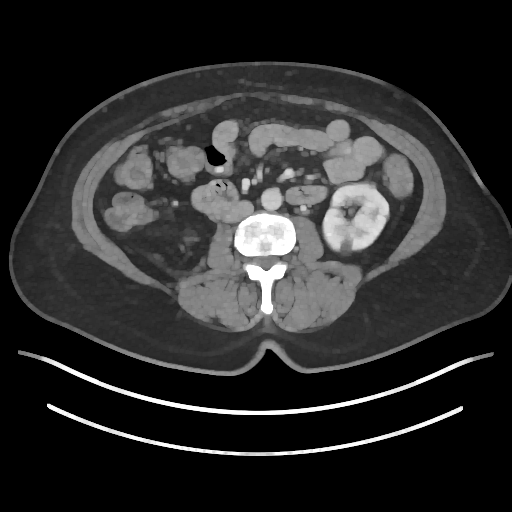Lesion: (337, 233, 356, 259)
